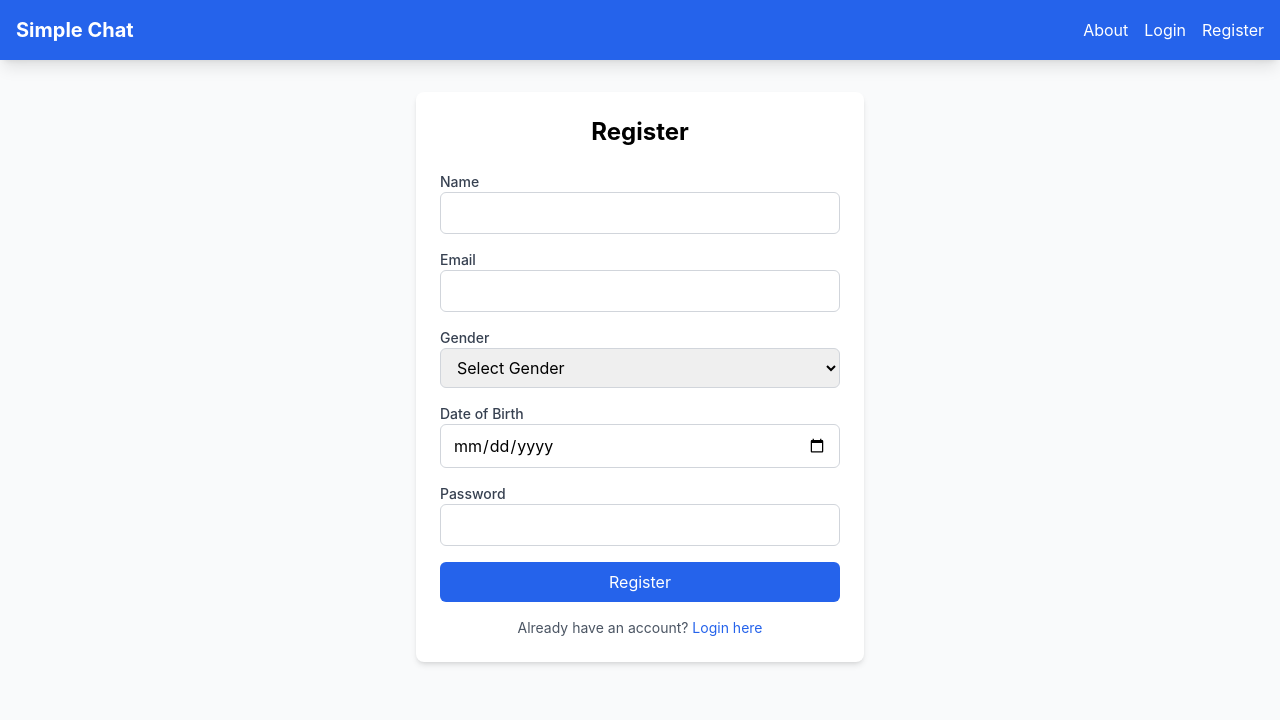
it: Authentication Flow › Registration › should show validation errors for empty fields
This screenshot has width=1280, height=720.
Step 1. Click the submit button → (640, 582), box [440,562,840,602]
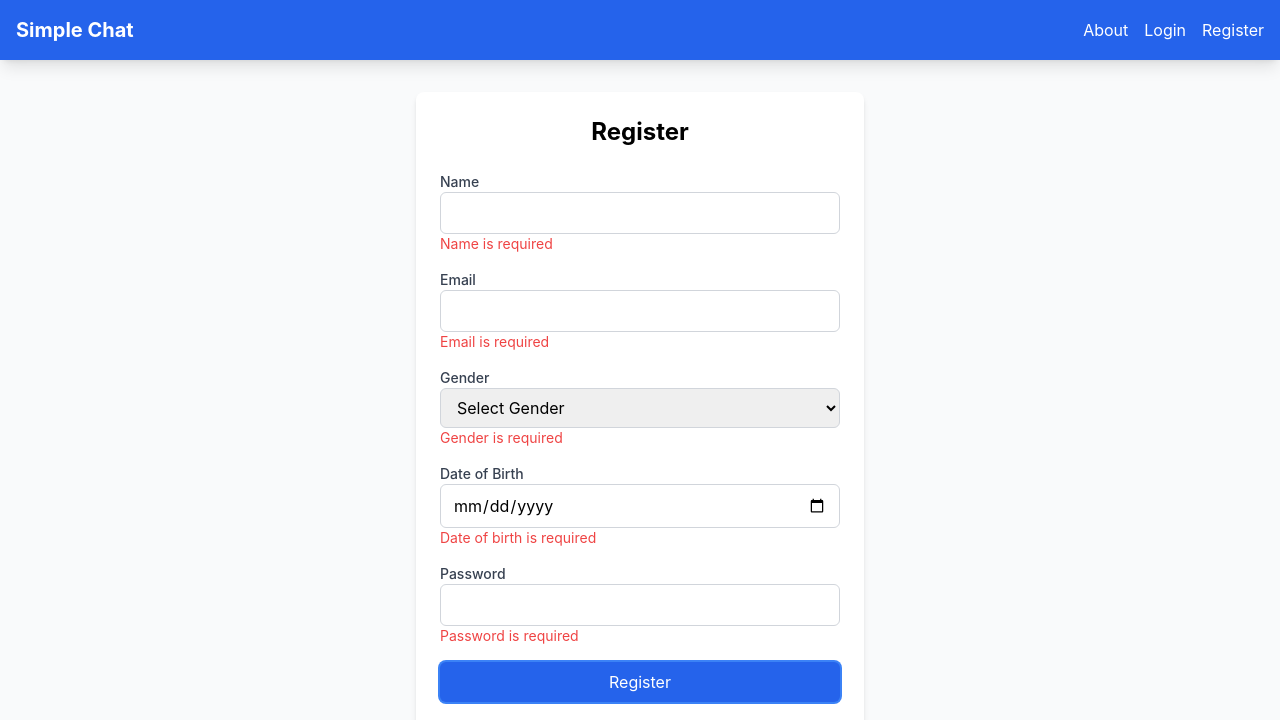
Result: the text "Name is required" is shown at [440,235,553,252]
Result: the text "Email is required" is shown at [440,333,549,350]
Result: the text "Gender is required" is shown at [440,429,563,446]
